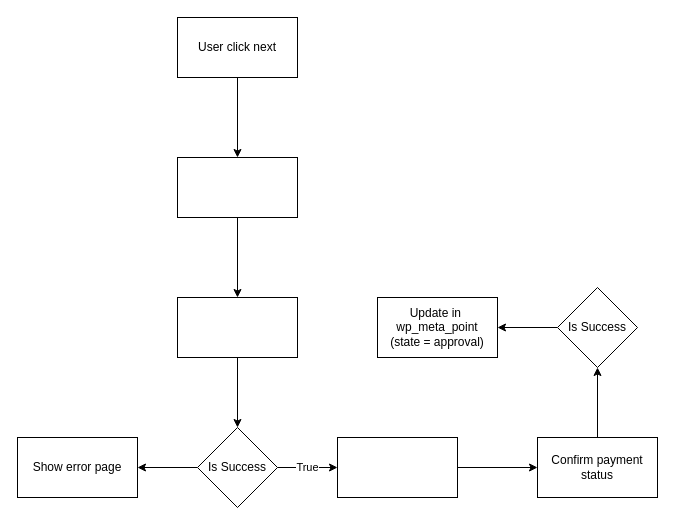
Some shapes in this 675 by 525 pixel diagram are drawn without their labels. Each missing label, with the centre of its shape:
"Save to wp_meta_point (state = payment_pending)" belongs at (x=237, y=187).
"Show success page" belongs at (x=397, y=467).
"Show TOSS payment page" belongs at (x=237, y=327).
